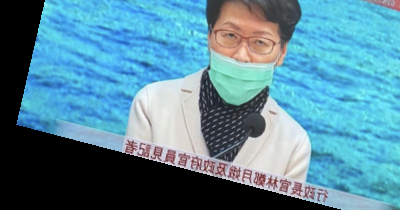mask_weared_incorrect: (200, 1, 307, 111)
